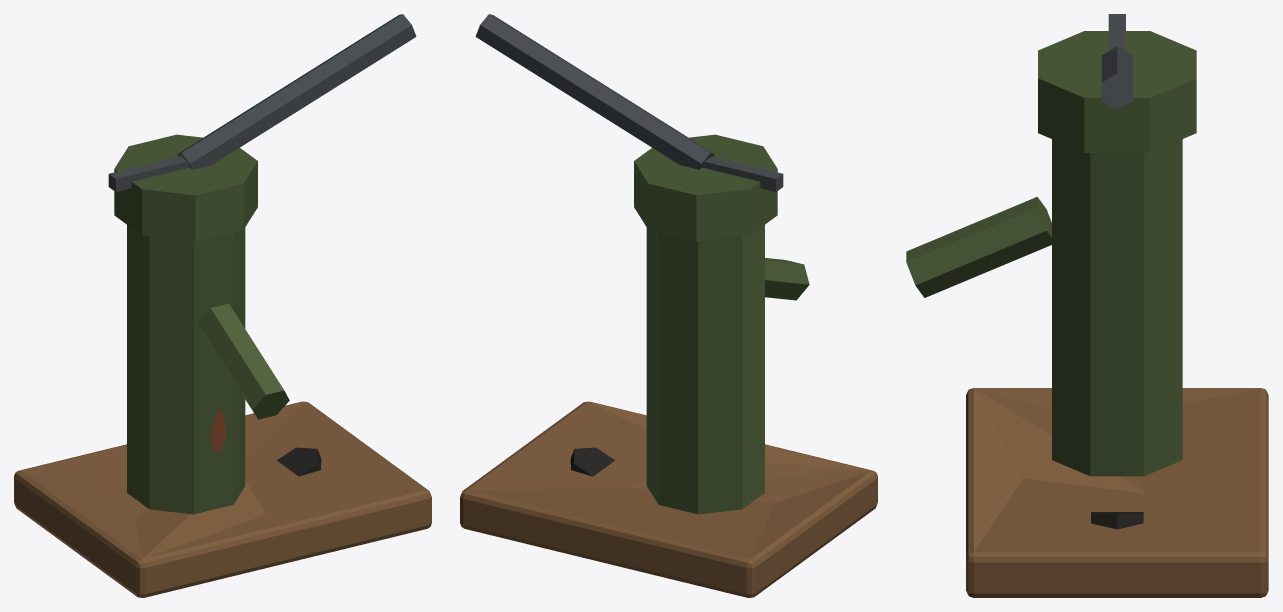
The model's file is water_pump_ruchnoy_rychazhnyy_idle.glb.
3 views of the same model, side by side, from view 1: azimuth 30°, elevation 25°; view 2: azimuth 150°, elevation 25°; view 3: azimuth 270°, elevation 25° (orthographic). The views are drawn at different scales.
Parts seen in each view (by area): view 1: water_pump_ruchnoy_rychazhnyy_idle; view 2: water_pump_ruchnoy_rychazhnyy_idle; view 3: water_pump_ruchnoy_rychazhnyy_idle.
Boxes of the visible parts, x1=… form: water_pump_ruchnoy_rychazhnyy_idle: x1=14, y1=14, x2=431, y2=597; water_pump_ruchnoy_rychazhnyy_idle: x1=460, y1=14, x2=877, y2=597; water_pump_ruchnoy_rychazhnyy_idle: x1=906, y1=14, x2=1268, y2=597.
Size of the model in its own units: 0.4562 by 0.608 by 0.3591.
1 material, 1 textured.
